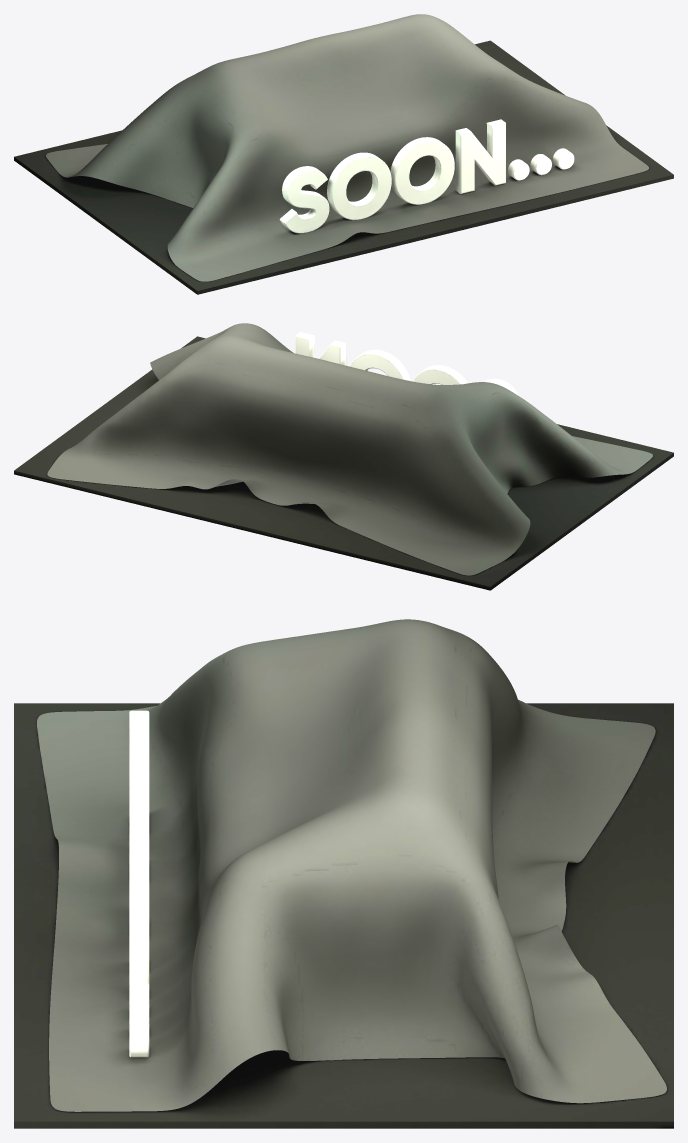
File: soon.glb
The picture shows the model from 3 angles, top to bottom: view 1: azimuth 30°, elevation 25°; view 2: azimuth 150°, elevation 25°; view 3: azimuth 270°, elevation 25°; orthographic projection. The views are drawn at different scales.
Visible parts, largest first — view 1: Plane, Cube, MoText.1; view 2: Plane, Cube, MoText.1; view 3: Plane, Cube, MoText.1.
Part boxes in pixels (box(x1,y1,x2,y2)): Plane: box(46, 14, 648, 281); Cube: box(14, 40, 673, 294); MoText.1: box(279, 119, 574, 233); Plane: box(47, 323, 652, 575); Cube: box(14, 336, 673, 590); MoText.1: box(295, 332, 518, 395); Plane: box(37, 619, 666, 1111); Cube: box(14, 703, 673, 1128); MoText.1: box(129, 710, 149, 1057).
Bounding box in the file's own units: 2.63 × 0.6139 × 1.75.
1 material, 1 textured.
